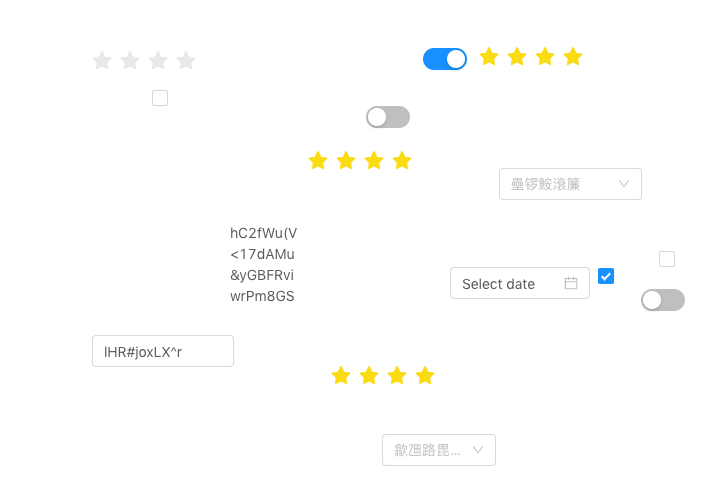Checkbox: (152, 87, 168, 108), (598, 265, 614, 286), (659, 248, 675, 269)
DatePicker: (450, 267, 590, 299)
Input: (92, 335, 234, 367)
Rate: (308, 144, 428, 176), (331, 359, 451, 391), (479, 40, 599, 72), (92, 44, 212, 76)
Select: (499, 168, 642, 200), (382, 434, 496, 466)
Switch: (366, 105, 410, 129), (641, 288, 685, 312), (423, 47, 467, 71)
Text: (230, 222, 302, 306)
